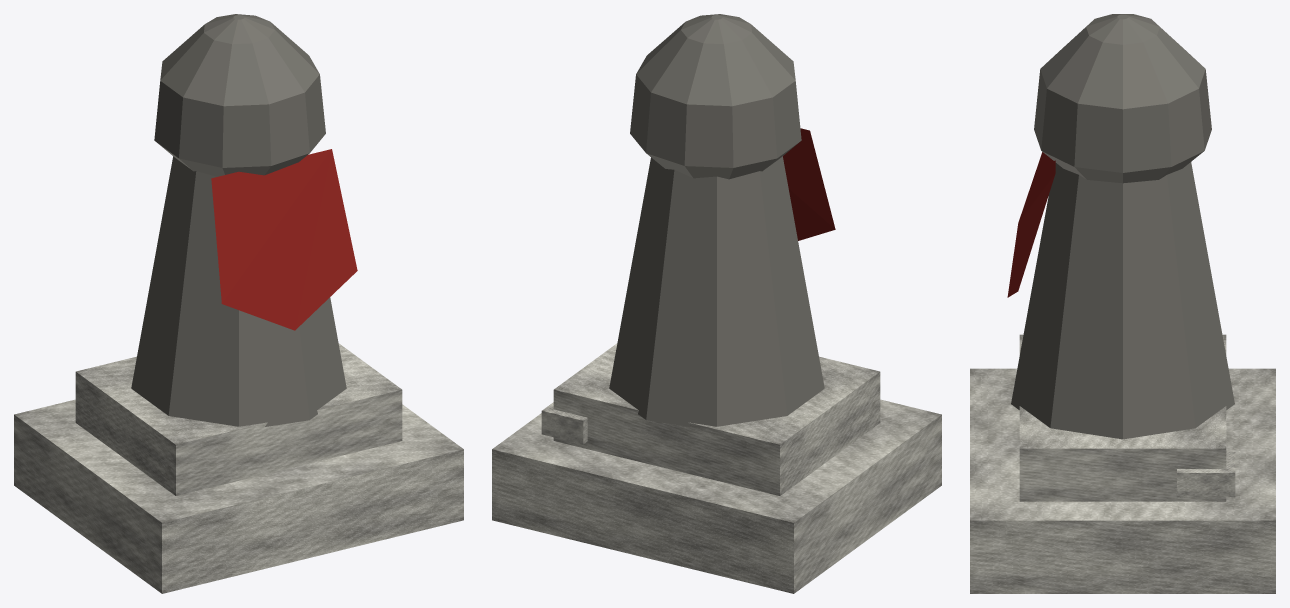
The model's file is valley-jizo-marker.obj.
The picture shows the model from 3 angles, left to right: view 1: azimuth 30°, elevation 25°; view 2: azimuth 150°, elevation 25°; view 3: azimuth 270°, elevation 25°; orthographic projection. The views are drawn at different scales.
Size of the model in its own units: 0.8 by 1.23 by 0.68.
Materials: 4 (3 with a texture image).
